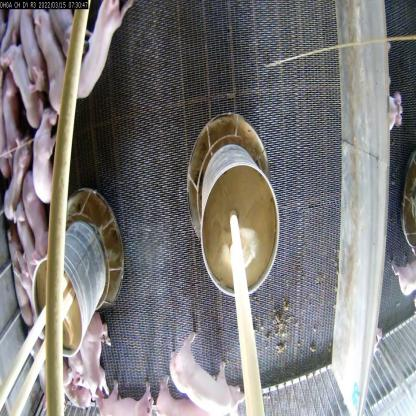Pig: (166, 329, 249, 415), (67, 4, 130, 102), (34, 11, 65, 121), (0, 134, 33, 223), (22, 171, 53, 261), (77, 316, 109, 400), (32, 111, 62, 200), (96, 378, 160, 415), (152, 382, 216, 416)
